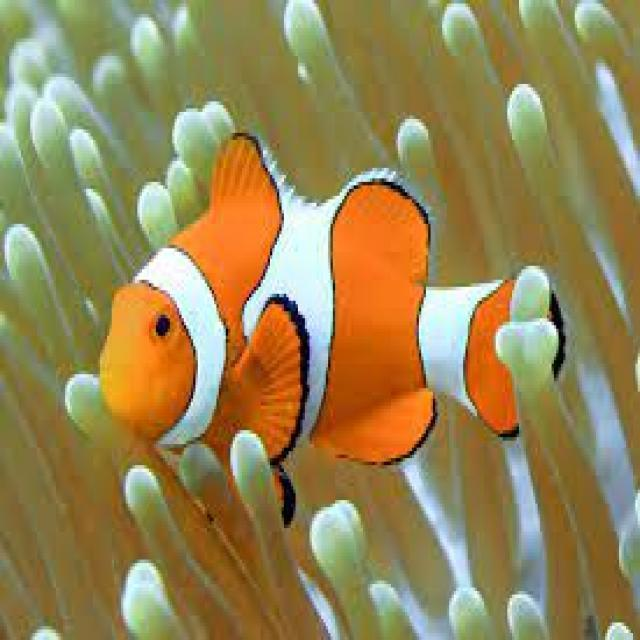ClownFish: (100, 133, 571, 513)
